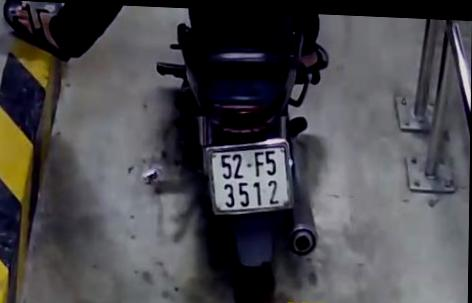License_Plate: (195, 126, 300, 223)
